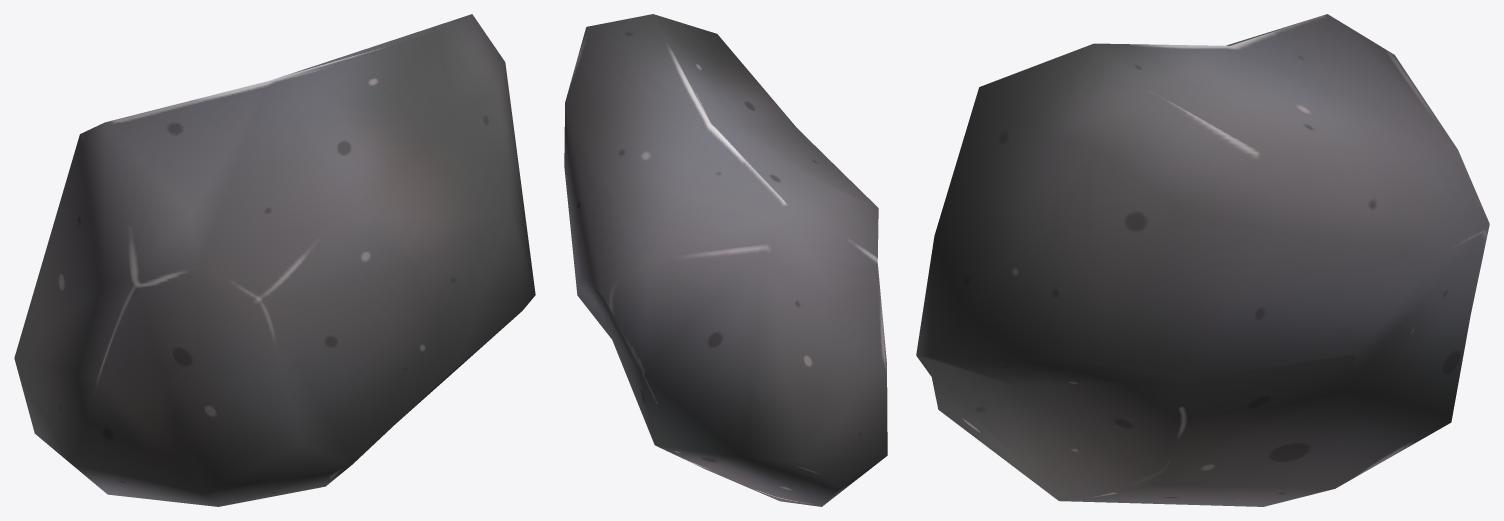
The model's file is rock1.fbx.
3 renders of one model, left to right at view 1: azimuth 30°, elevation 25°; view 2: azimuth 150°, elevation 25°; view 3: azimuth 270°, elevation 25°, orthographic. The views are drawn at different scales.
Parts seen in each view (by area): view 1: rock1; view 2: rock1; view 3: rock1.
Boxes of the visible parts, left/top/right/bottom form: rock1: left=14, top=14, right=535, bottom=506; rock1: left=564, top=14, right=887, bottom=506; rock1: left=916, top=14, right=1489, bottom=506.
Size of the model in its own units: 189 by 212 by 185.
